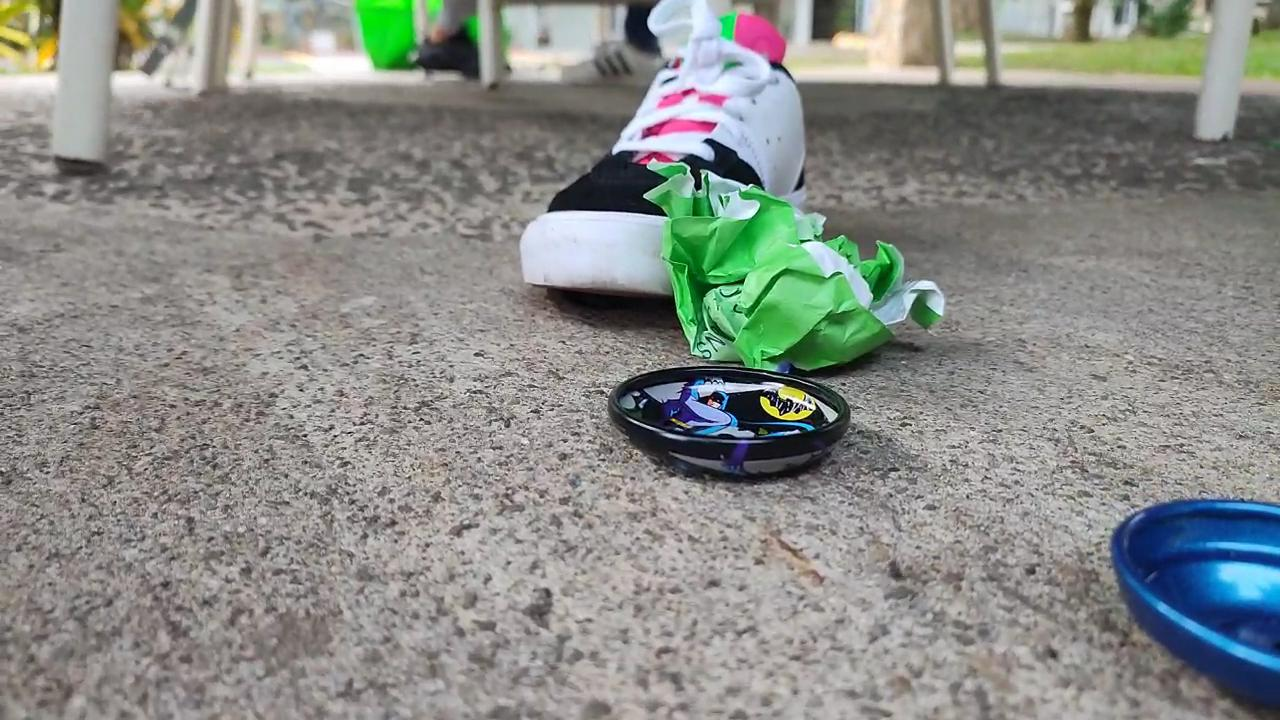Paper: (647, 158, 954, 391)
